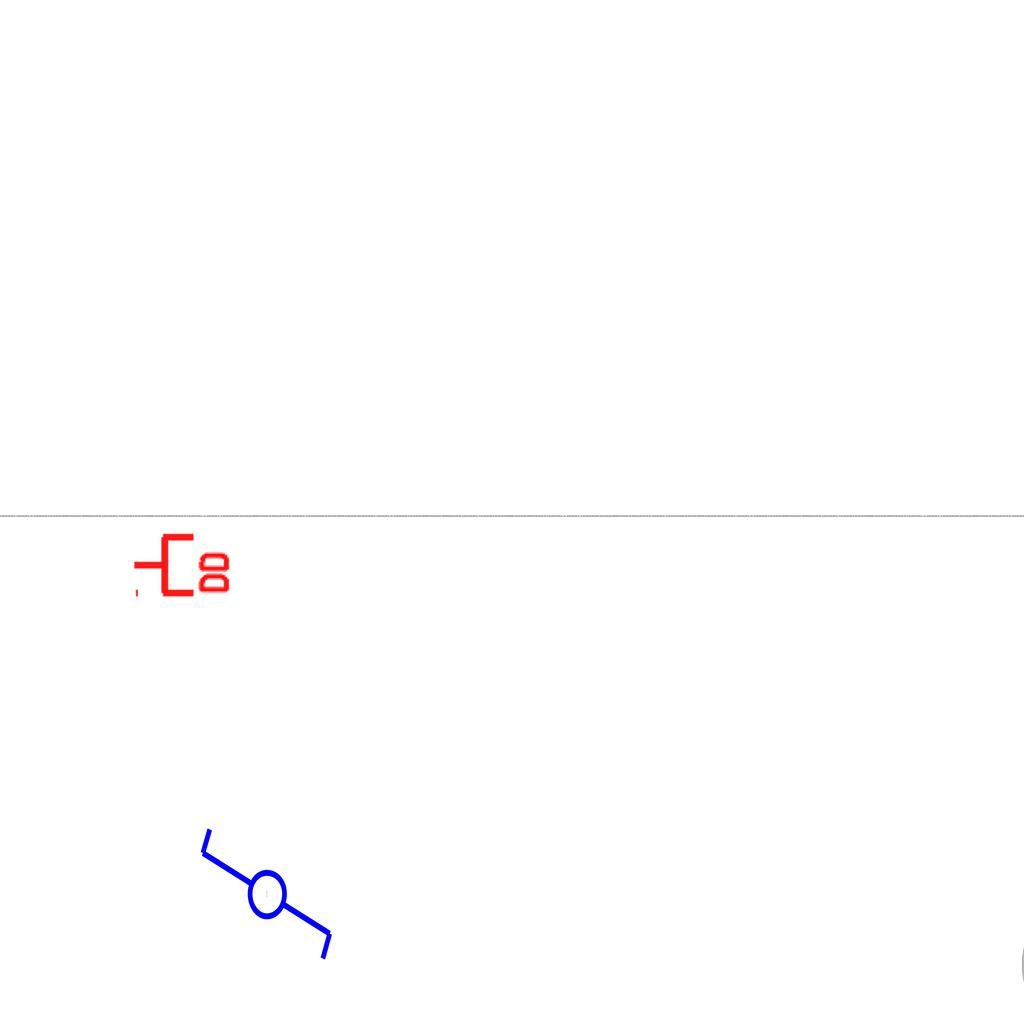Datenanschluss_zweifach: (131, 529, 234, 598)
Wechselschalter: (193, 824, 337, 981)
